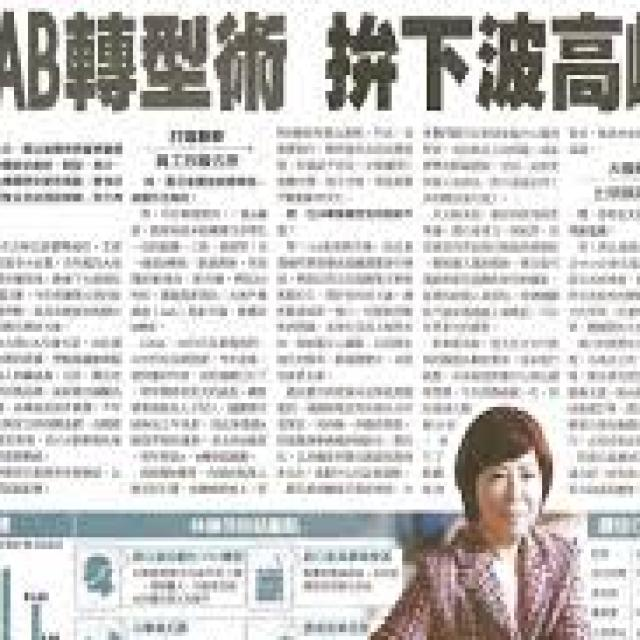organic: (9, 10, 631, 636)
